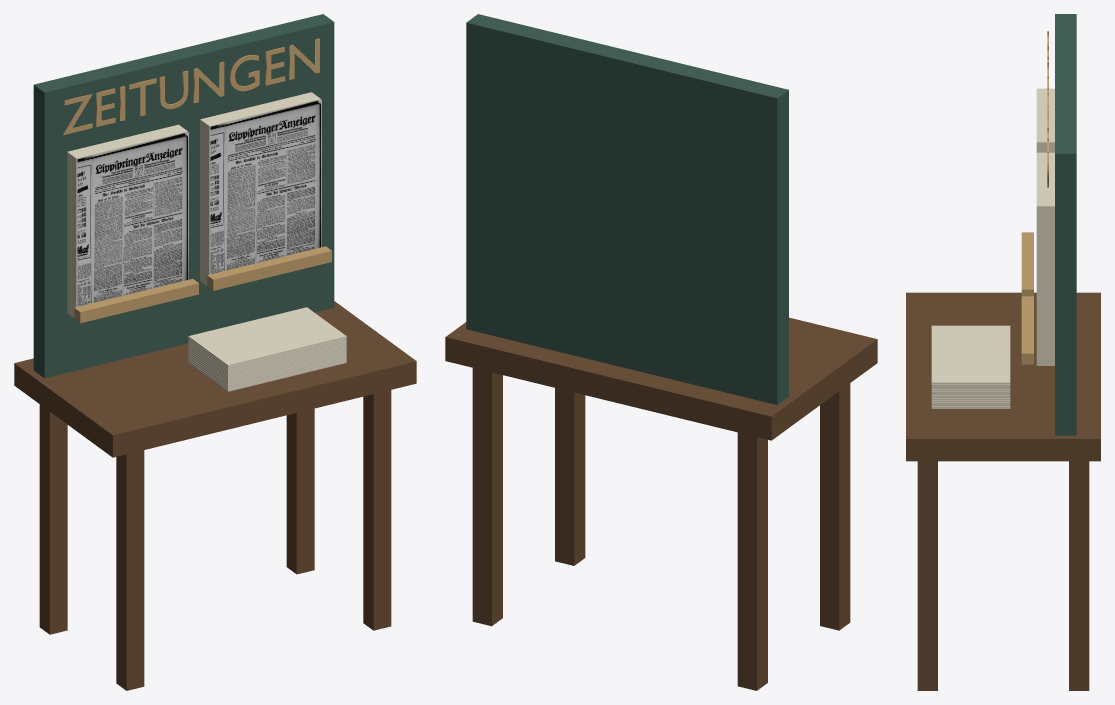
The model's file is an_presse.glb.
3 views of the same model, side by side, from view 1: azimuth 30°, elevation 25°; view 2: azimuth 150°, elevation 25°; view 3: azimuth 270°, elevation 25° (orthographic). The views are drawn at different scales.
Parts seen in each view (by area): view 1: Rückwand, Ladentisch, zeitung.001, zeitung, Fuß, Fuß.002, Fuß.001, Gefaltete Ausgabe.011, Fuß.003, Text, Papierrücken, Papierrücken.001 (+2 smaller); view 2: Rückwand, Ladentisch, Fuß.001, Fuß.003, Fuß, Fuß.002; view 3: Ladentisch, Rückwand, Fuß.002, Fuß.003, Gefaltete Ausgabe.011, Papierrücken.001, Papierrücken, Halteleiste.001, Halteleiste.
Boxes of the visible parts, <box> form: Rückwand: <box>33,14,334,378</box>; Ladentisch: <box>14,301,416,457</box>; zeitung.001: <box>210,99,321,274</box>; zeitung: <box>77,132,188,306</box>; Fuß: <box>116,450,144,690</box>; Fuß.002: <box>363,390,391,630</box>; Fuß.001: <box>39,404,67,634</box>; Gefaltete Ausgabe.011: <box>188,307,346,366</box>; Fuß.003: <box>286,408,314,574</box>; Text: <box>63,38,319,134</box>; Papierrücken: <box>67,124,187,317</box>; Papierrücken.001: <box>200,92,320,285</box>; Rückwand: <box>466,14,788,404</box>; Ladentisch: <box>445,317,877,440</box>; Fuß.001: <box>737,432,767,690</box>; Fuß.003: <box>472,368,502,626</box>; Fuß: <box>820,383,850,630</box>; Fuß.002: <box>555,388,585,565</box>; Ladentisch: <box>906,292,1100,461</box>; Rückwand: <box>1055,14,1076,435</box>; Fuß.002: <box>917,461,937,690</box>; Fuß.003: <box>1069,461,1089,690</box>; Gefaltete Ausgabe.011: <box>931,325,1010,384</box>; Papierrücken.001: <box>1036,152,1054,365</box>; Papierrücken: <box>1036,88,1054,152</box>; Halteleiste.001: <box>1021,296,1033,364</box>; Halteleiste: <box>1021,232,1033,296</box>.
Bounding box in the file's own units: 1.28 × 2.21 × 0.72.
6 materials, 2 textured.
